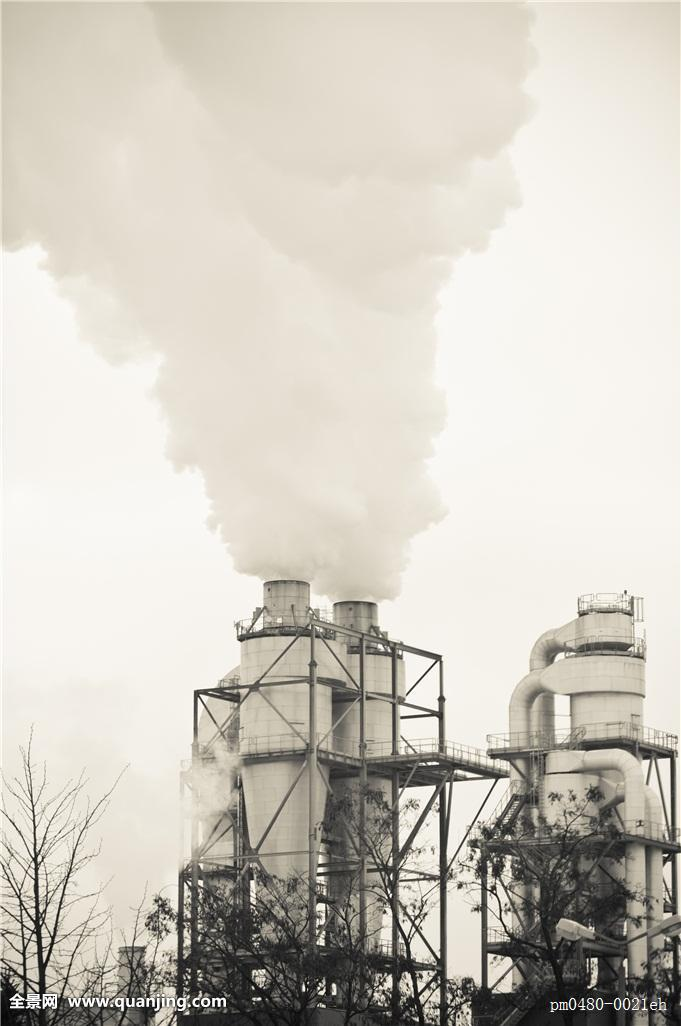dust: (33, 11, 514, 640)
